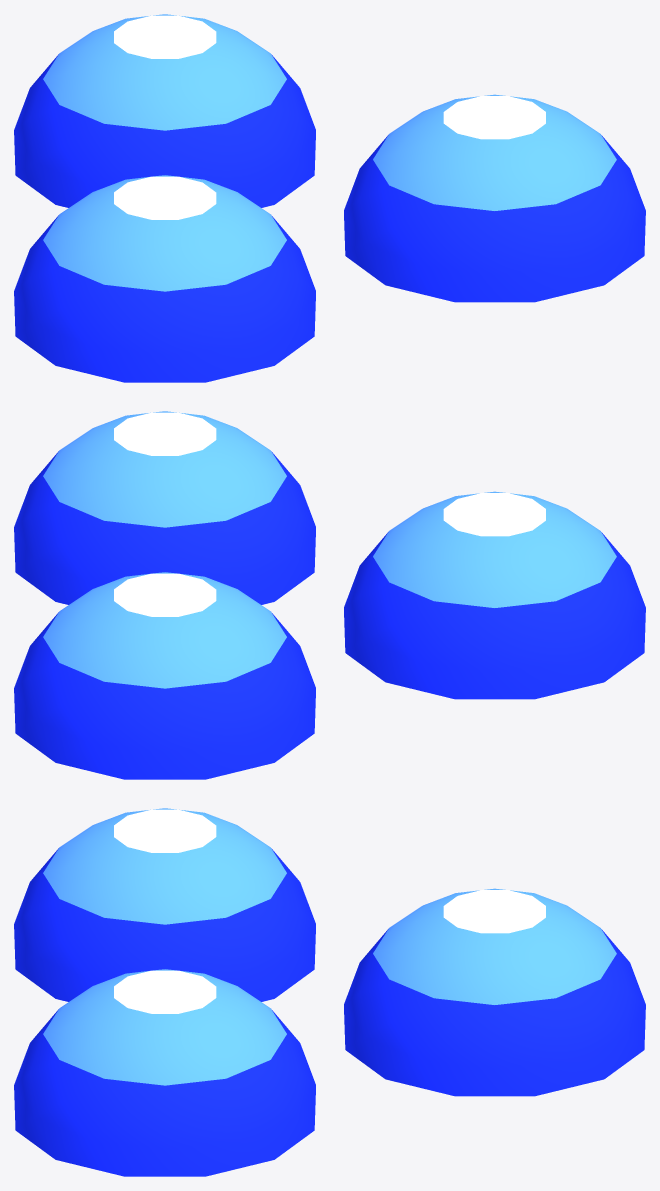
The model's file is shot_protron_3.glb.
The picture shows the model from 3 angles, top to bottom: view 1: azimuth 30°, elevation 25°; view 2: azimuth 150°, elevation 25°; view 3: azimuth 270°, elevation 25°; orthographic projection.
Parts seen in each view (by area): view 1: shot_protron_3_pearl1, shot_protron_3_pearl2, shot_protron_3_pearl0; view 2: shot_protron_3_pearl2, shot_protron_3_pearl0, shot_protron_3_pearl1; view 3: shot_protron_3_pearl0, shot_protron_3_pearl1, shot_protron_3_pearl2.
Part boxes in pixels (x1=…): shot_protron_3_pearl1: x1=344, y1=94, x2=645, y2=302; shot_protron_3_pearl2: x1=14, y1=175, x2=315, y2=382; shot_protron_3_pearl0: x1=14, y1=14, x2=315, y2=207; shot_protron_3_pearl2: x1=344, y1=491, x2=645, y2=699; shot_protron_3_pearl0: x1=14, y1=572, x2=315, y2=779; shot_protron_3_pearl1: x1=14, y1=411, x2=315, y2=604; shot_protron_3_pearl0: x1=344, y1=888, x2=645, y2=1096; shot_protron_3_pearl1: x1=14, y1=969, x2=315, y2=1176; shot_protron_3_pearl2: x1=14, y1=808, x2=315, y2=1001.
Bounding box in the file's own units: 11.03 × 2.3 × 10.2.
